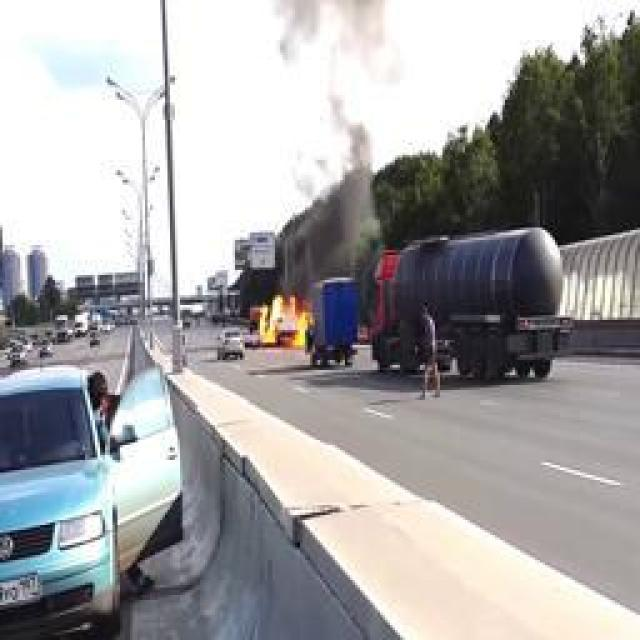Fire: (258, 296, 314, 349)
